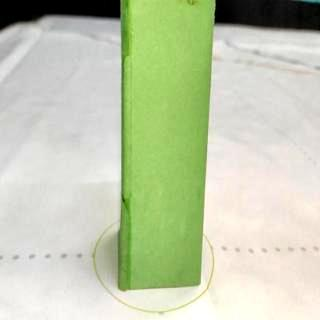greenbox: (119, 0, 215, 292)
